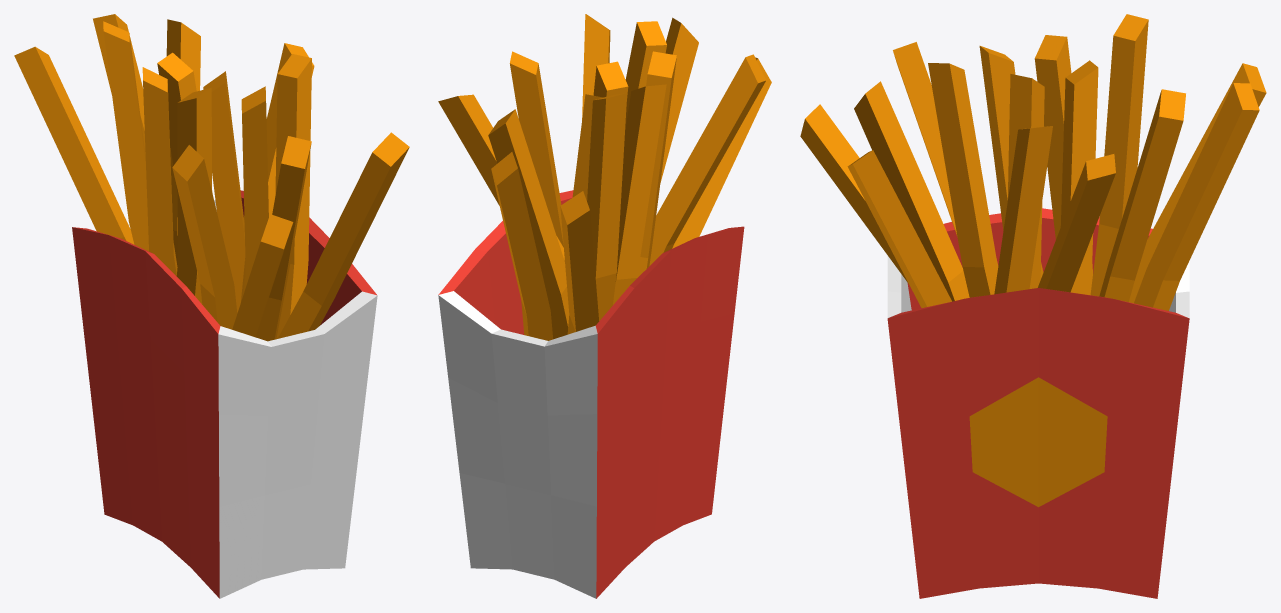
File: French_fries_by_jeremy.glb
3 views of the same model, side by side, from view 1: azimuth 30°, elevation 25°; view 2: azimuth 150°, elevation 25°; view 3: azimuth 270°, elevation 25° (orthographic). The views are drawn at different scales.
Visible parts, largest first — view 1: Plane; view 2: Plane; view 3: Plane.
Part boxes in pixels (x1,y1,x2,y2): Plane: (14, 14, 409, 598); Plane: (438, 14, 771, 598); Plane: (800, 14, 1266, 598).
Bounding box in the file's own units: 4.73 × 10.02 × 8.23.
